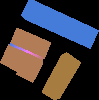parkingspot: (21, 0, 98, 48), (42, 52, 80, 99), (10, 28, 50, 58), (16, 52, 42, 82), (0, 44, 27, 72)
